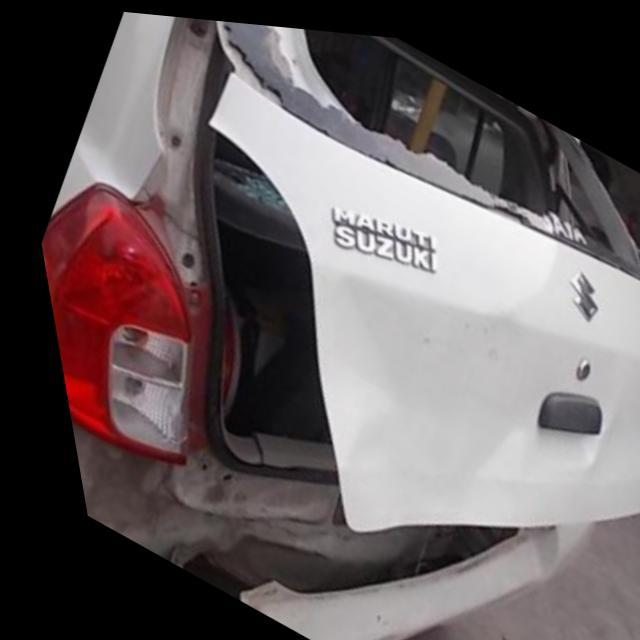dislocated part: (56, 417, 552, 640)
glass shatter: (238, 18, 640, 262)
